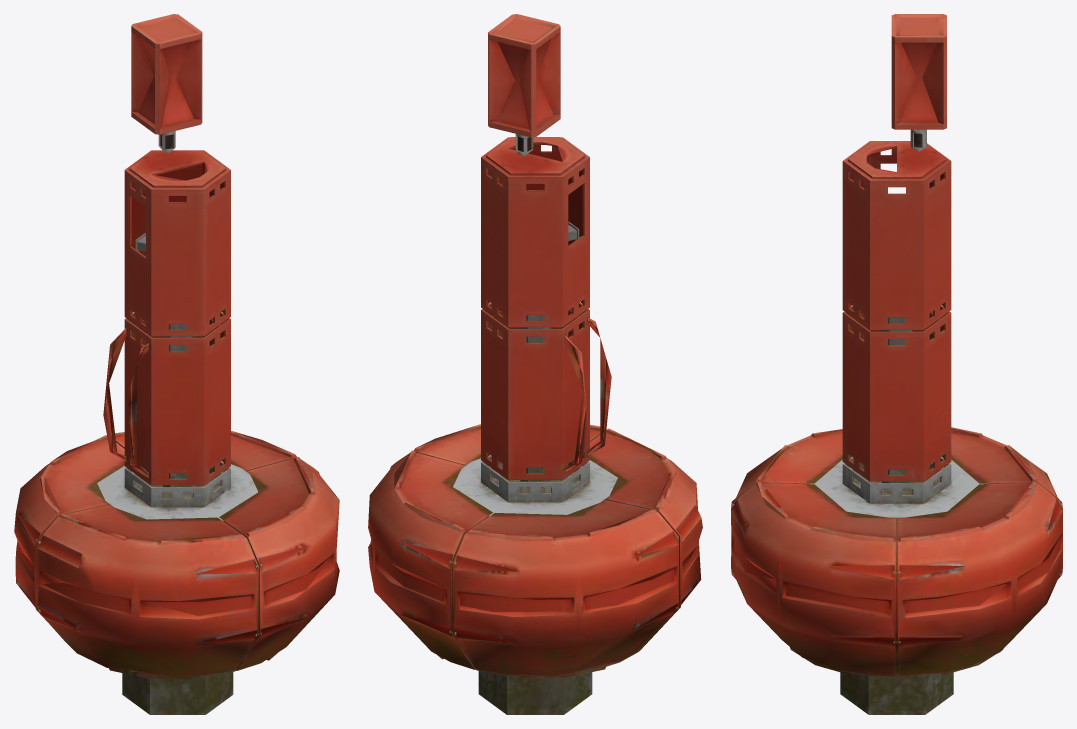
The model's file is lateral-marker.glb.
3 renders of one model, left to right at view 1: azimuth 30°, elevation 25°; view 2: azimuth 150°, elevation 25°; view 3: azimuth 270°, elevation 25°, orthographic. The views are drawn at different scales.
Visible parts, largest first — view 1: lateral_sea_marker; view 2: lateral_sea_marker; view 3: lateral_sea_marker.
Boxes of the visible parts, box(x1,y1,x2,y2) form: lateral_sea_marker: box(14, 14, 339, 714); lateral_sea_marker: box(368, 14, 702, 714); lateral_sea_marker: box(731, 14, 1062, 714).
Bounding box in the file's own units: 3 × 6.84 × 3.
Materials: 1 (1 with a texture image).
